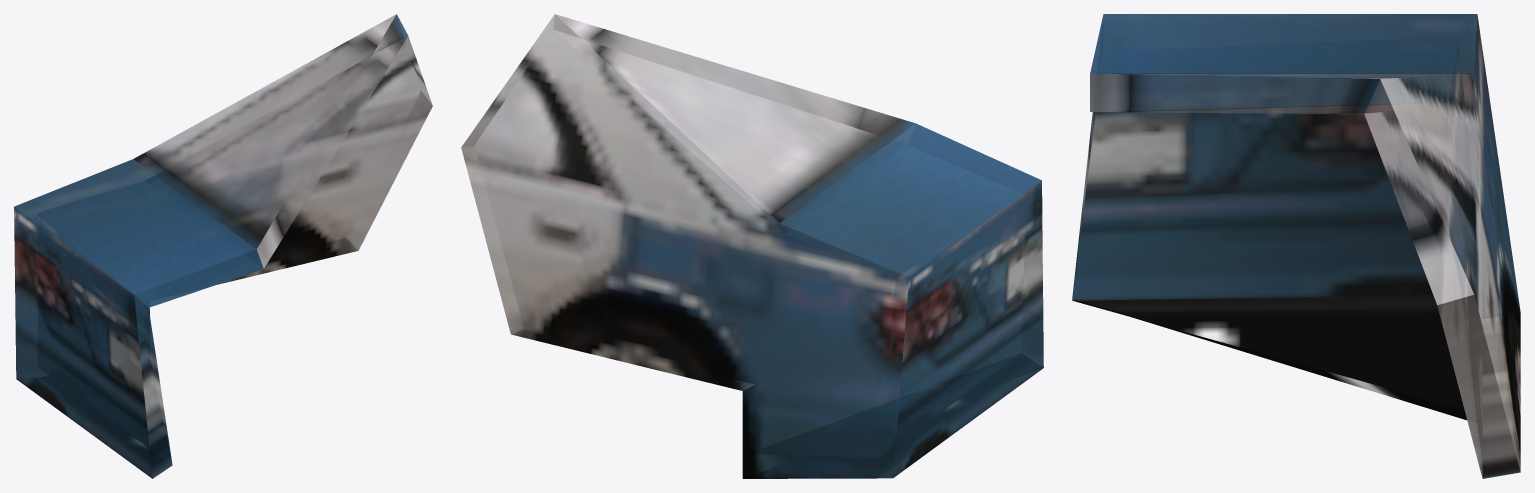
The model's file is Shared - Ground Vehicles - Police Car - CVPoliceCar_x07.glb.
The picture shows the model from 3 angles, left to right: view 1: azimuth 30°, elevation 25°; view 2: azimuth 150°, elevation 25°; view 3: azimuth 270°, elevation 25°; orthographic projection. The views are drawn at different scales.
Parts seen in each view (by area): view 1: CVPOLICECAR_X07; view 2: CVPOLICECAR_X07; view 3: CVPOLICECAR_X07.
Part boxes in pixels (x1,y1,x2,y2): CVPOLICECAR_X07: (14,14,432,478); CVPOLICECAR_X07: (461,14,1043,478); CVPOLICECAR_X07: (1072,14,1520,478).
Bounding box in the file's own units: 7.07 × 5.57 × 4.34.
Materials: 1 (1 with a texture image).
